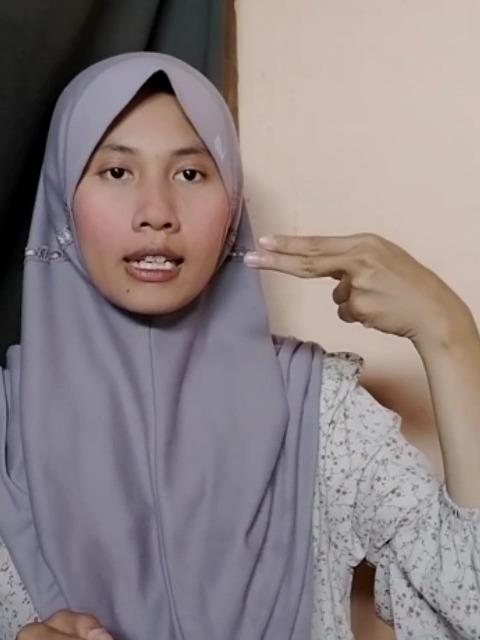H: (240, 228, 474, 348)
